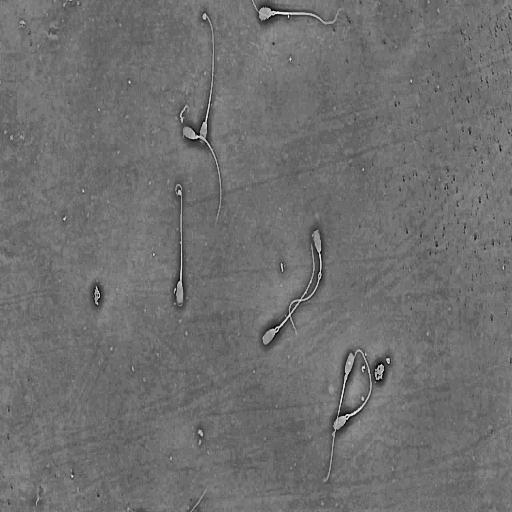coiled-tail: (175, 184, 183, 281)
dirt-particles: (373, 361, 386, 383), (92, 281, 102, 308), (201, 12, 207, 21)
distal-droplet: (318, 272, 322, 279)
normal: (260, 239, 315, 349), (323, 348, 357, 483), (181, 122, 223, 221), (288, 225, 324, 337), (332, 346, 374, 433), (198, 9, 216, 149), (257, 3, 347, 27), (174, 183, 185, 311)
proximal-droplet: (345, 414, 350, 420), (275, 326, 279, 333), (344, 374, 348, 380), (271, 10, 275, 16)
